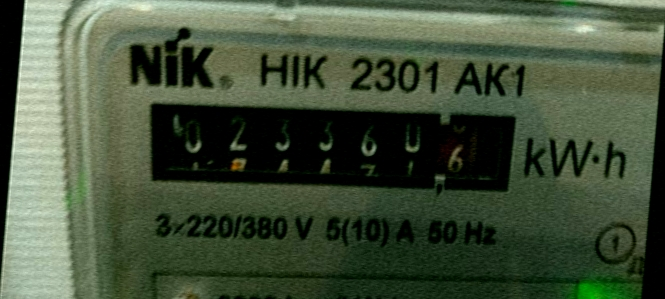0: (178, 113, 207, 157), (399, 117, 425, 155)
2: (223, 110, 252, 152)
3: (270, 112, 294, 154), (312, 114, 337, 154)
6: (353, 118, 383, 161), (444, 139, 468, 177)
screen: (121, 69, 531, 221)
